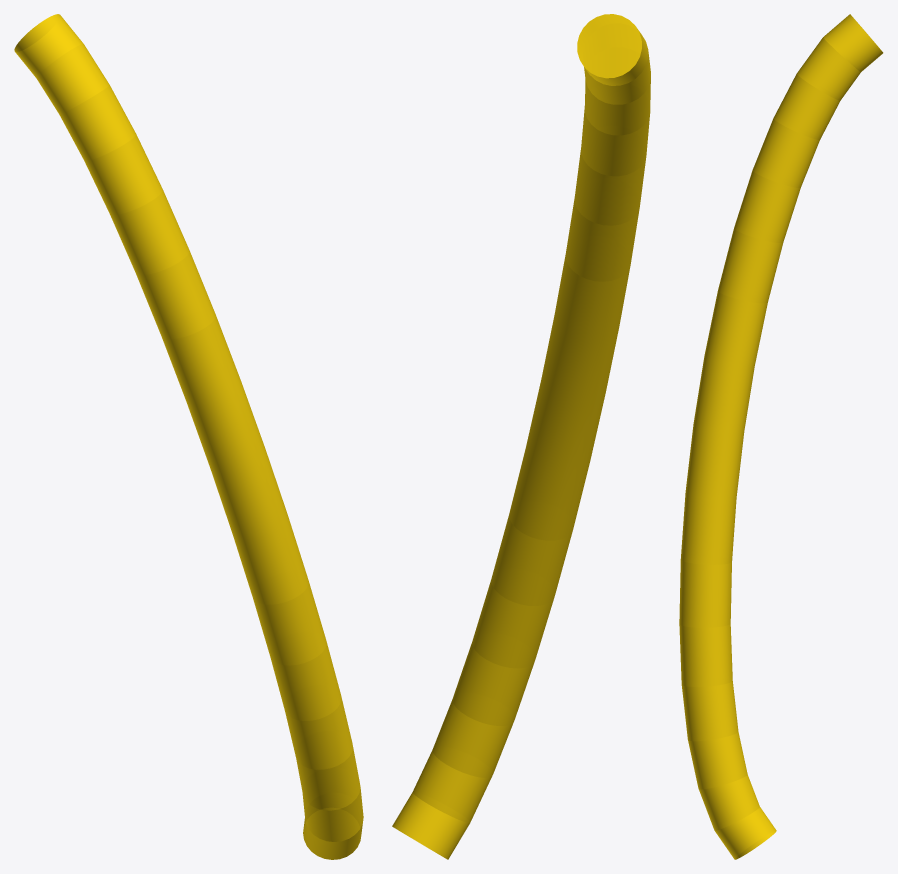
Rendered from Event_421115418_track_111.fbx.
3 renders of one model, left to right at view 1: azimuth 30°, elevation 25°; view 2: azimuth 150°, elevation 25°; view 3: azimuth 270°, elevation 25°, orthographic. The views are drawn at different scales.
Visible parts, largest first — view 1: Model; view 2: Model; view 3: Model.
Boxes of the visible parts, x1=… form: Model: x1=14, y1=14, x2=363, y2=859; Model: x1=392, y1=14, x2=650, y2=859; Model: x1=679, y1=14, x2=883, y2=859.
Size of the model in its own units: 0.2212 by 0.6401 by 0.1588.
